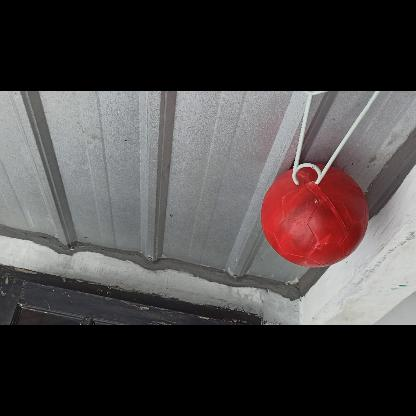red_ball: (260, 163, 366, 270)
